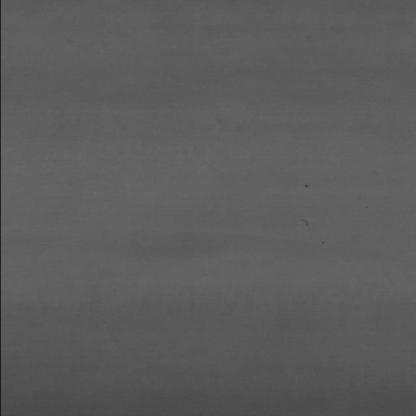inclusion: (298, 179, 324, 190), (299, 218, 323, 229)
